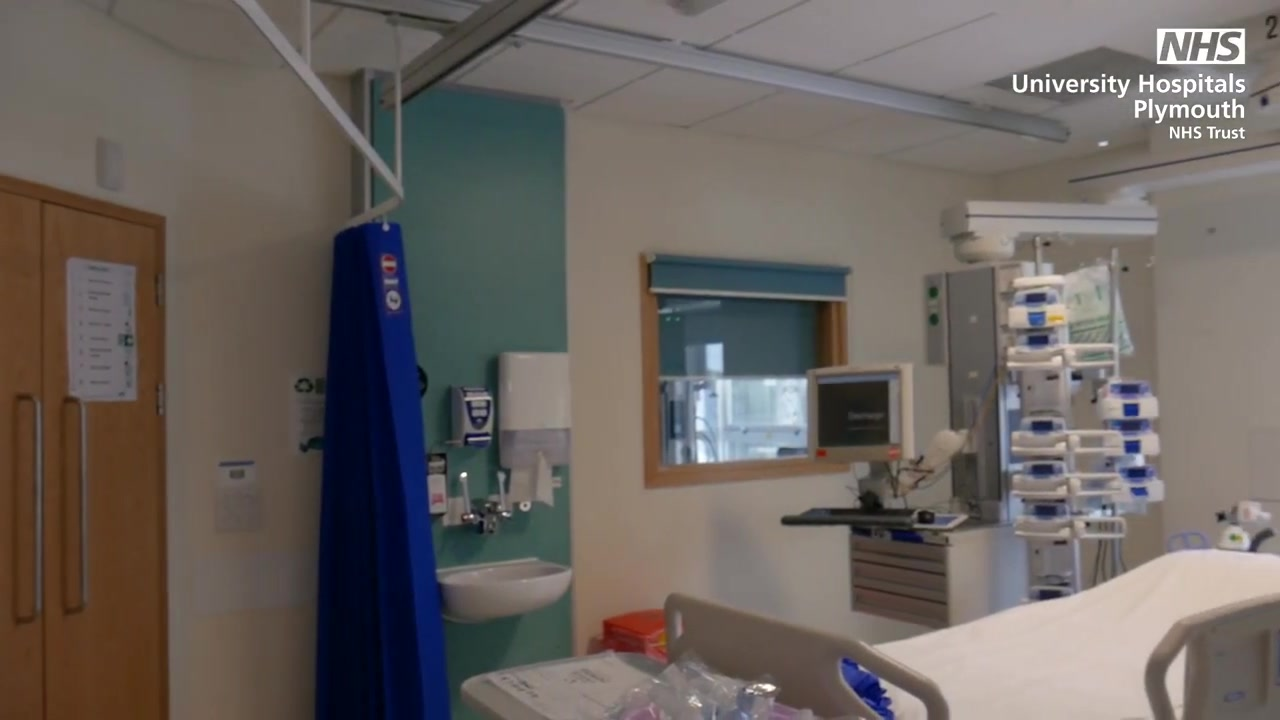bedrail: (1143, 587, 1280, 720)
computer: (807, 363, 916, 463)
curtain: (312, 220, 451, 720)
dispenser: (497, 354, 568, 478), (446, 385, 496, 456)
drawer: (847, 527, 1026, 621)
faucet: (460, 470, 514, 535)
foot_board: (665, 592, 954, 720)
handle: (6, 388, 49, 630), (52, 390, 93, 630)
hospital_bed: (664, 548, 1280, 720)
iv_pole: (1084, 249, 1153, 378), (999, 230, 1074, 281)
keyboard: (826, 507, 916, 523)
mouse: (919, 510, 936, 524)
sink: (435, 556, 573, 625)
syringe_pump: (1006, 288, 1068, 328), (1007, 333, 1069, 371), (1011, 461, 1070, 499), (1109, 462, 1167, 500), (1100, 382, 1158, 420), (1104, 420, 1162, 458), (1012, 498, 1070, 536), (1012, 414, 1066, 454)
waste_bin: (602, 610, 665, 658)
